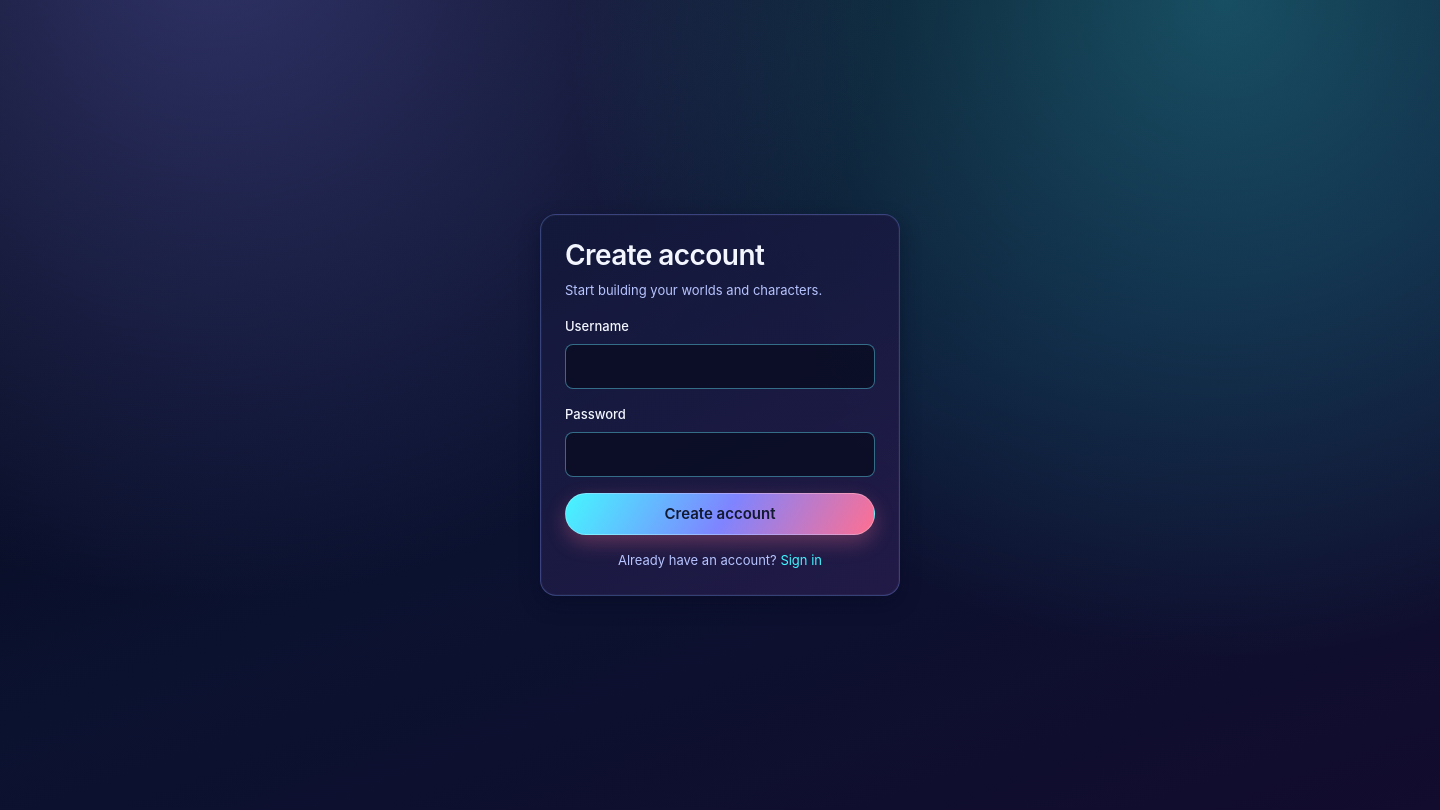
Scenario: <Signup /> › surfaces the backend error when the username is taken
Type "alice" into the field labelled "Username" at (720, 366), box [565,344,875,388]
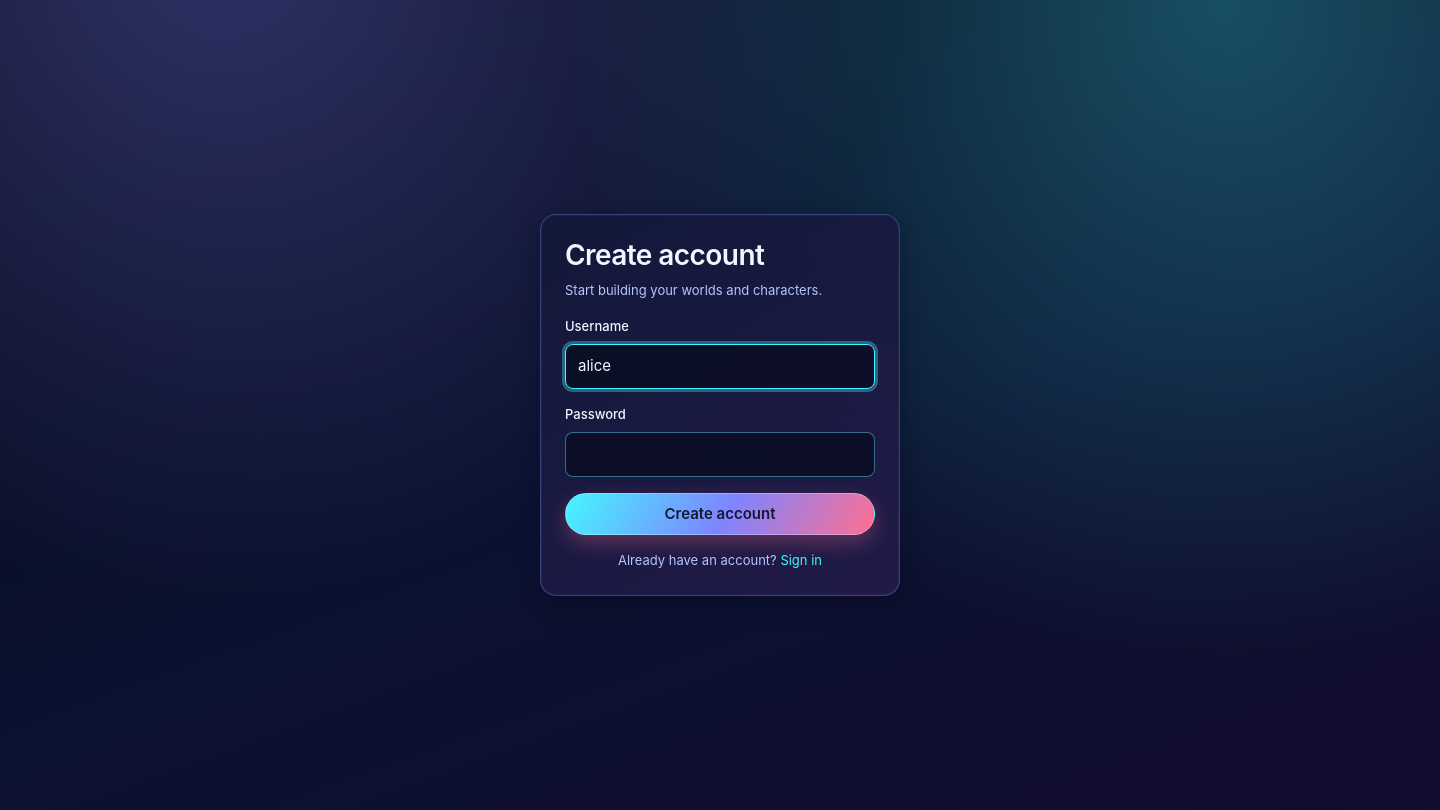
Type "secret123" into the password field labelled "Password" at (720, 454), box [565,432,875,476]
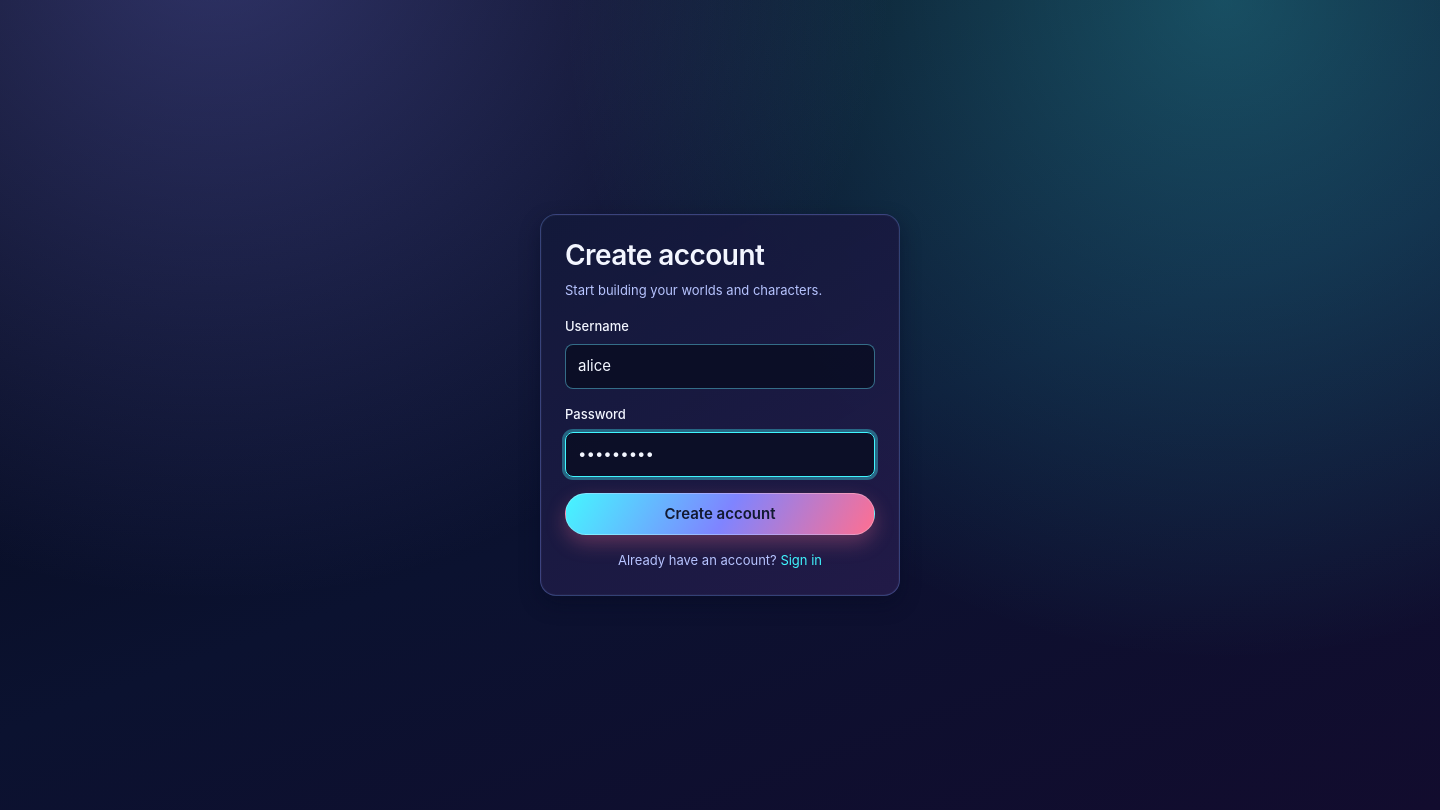
Click the button "Create account" at (720, 514), box [565,492,875,535]
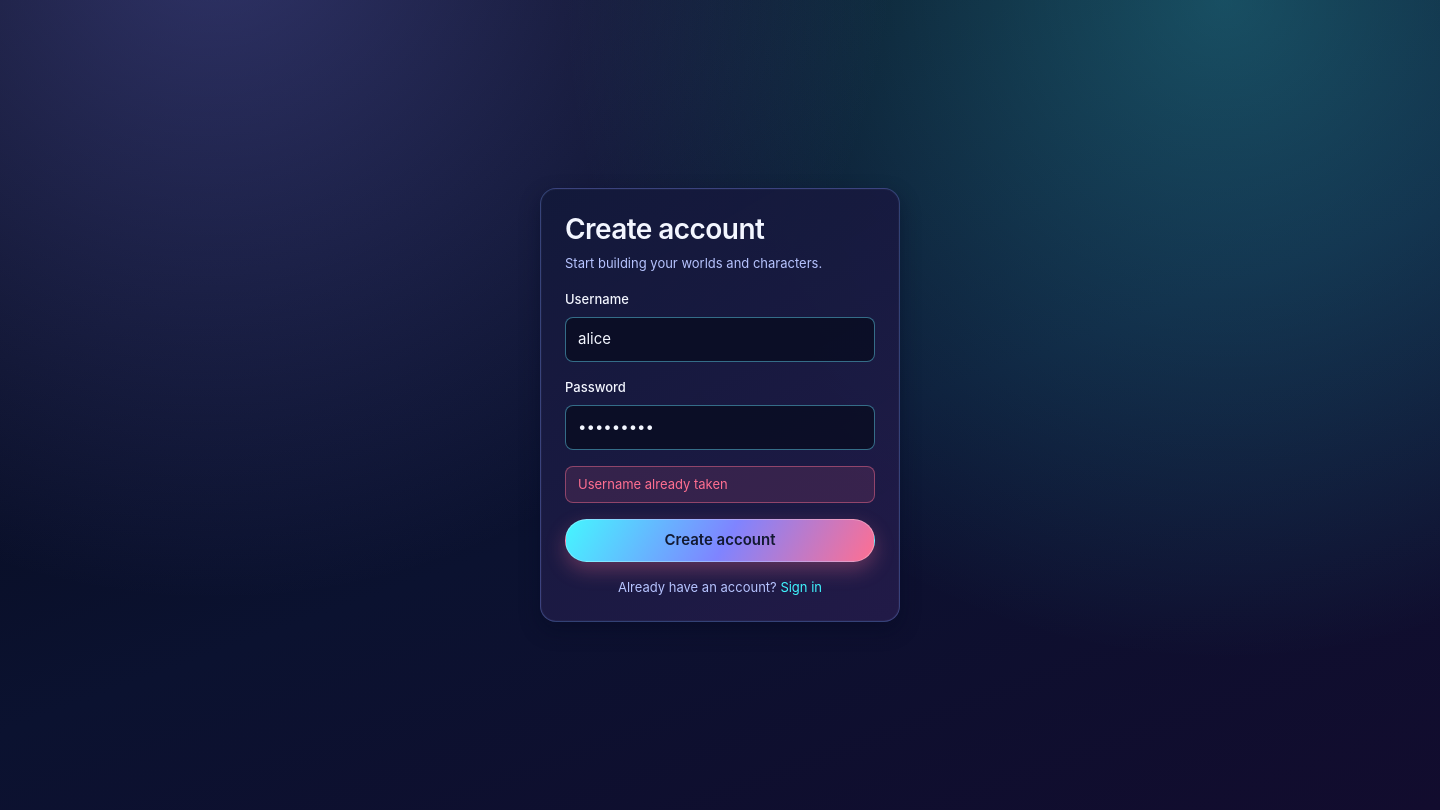
Check: the message reads "Username already taken", box [578,476,728,492]
